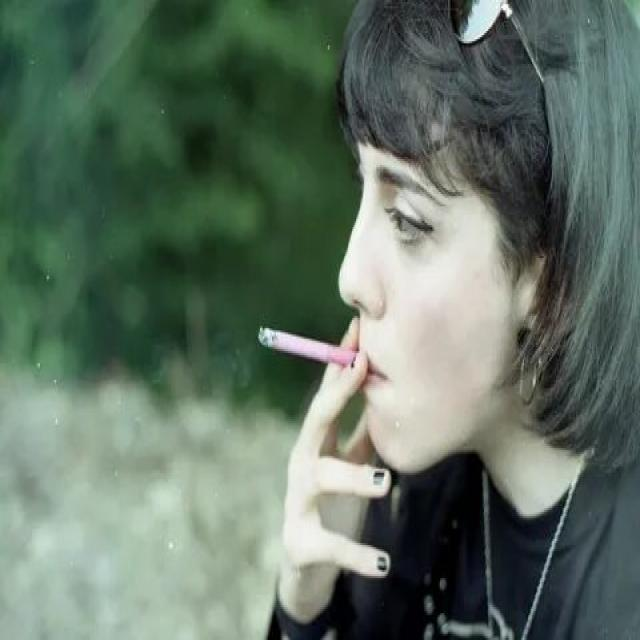cigarette: (257, 318, 380, 384)
